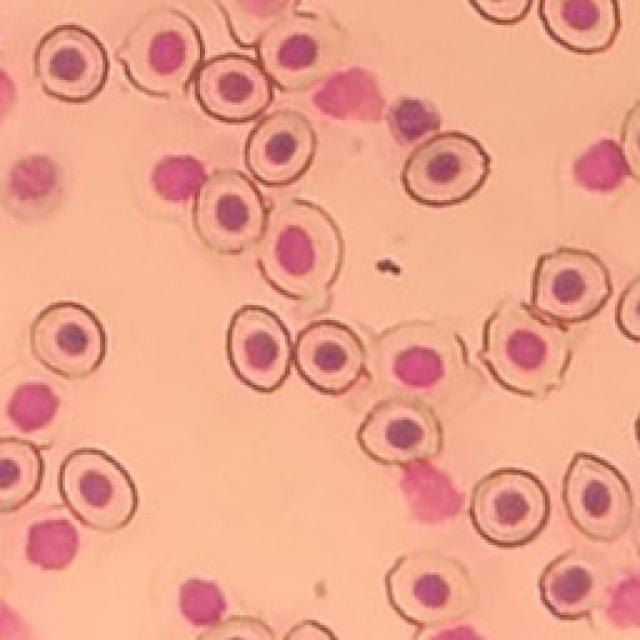RBC: (480, 301, 570, 396), (259, 200, 342, 299), (259, 0, 344, 90), (118, 9, 204, 96), (378, 321, 468, 394), (59, 448, 138, 530), (402, 132, 489, 206), (192, 169, 268, 252), (386, 552, 471, 624), (471, 469, 549, 546), (562, 452, 631, 539), (531, 249, 611, 321), (35, 25, 109, 102), (358, 398, 441, 464), (32, 301, 105, 376), (245, 110, 315, 185), (229, 305, 290, 391), (295, 320, 365, 393), (196, 54, 271, 121), (539, 0, 620, 53), (540, 554, 594, 618), (0, 438, 42, 511), (198, 616, 274, 640)
WBC: (400, 460, 464, 522), (312, 66, 384, 120), (574, 139, 629, 191), (28, 519, 79, 569), (152, 155, 206, 201), (9, 384, 59, 432), (180, 579, 226, 625), (10, 155, 56, 199), (394, 99, 440, 140), (606, 572, 640, 626)
